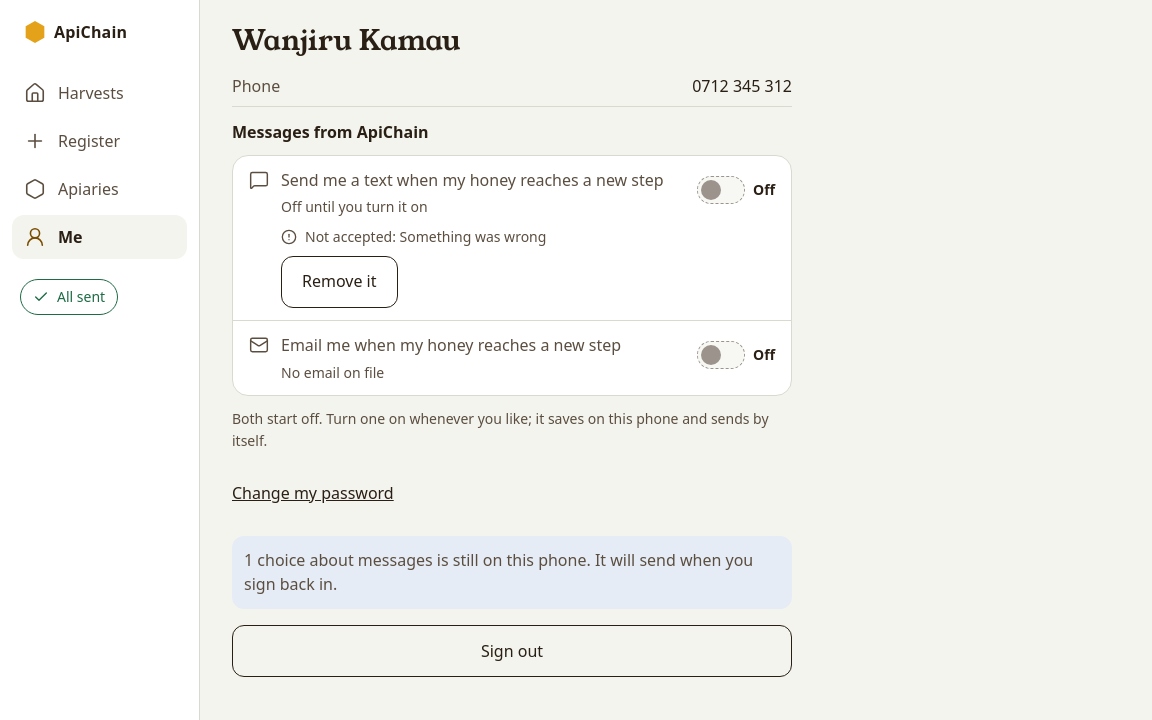
Test: the farmer's own message choices › a refused choice says so and can be removed; its switch waits until then
Check: the text "Not accepted: Something was wrong" is shown, box [281,226,546,248]
Check: the switch named "Send me a text when my honey reaches a new step" in the row of "Off until you turn it on" is disabled, box [697,168,745,212]
Click the button "Remove it": [339, 282] box [281,256,398,308]
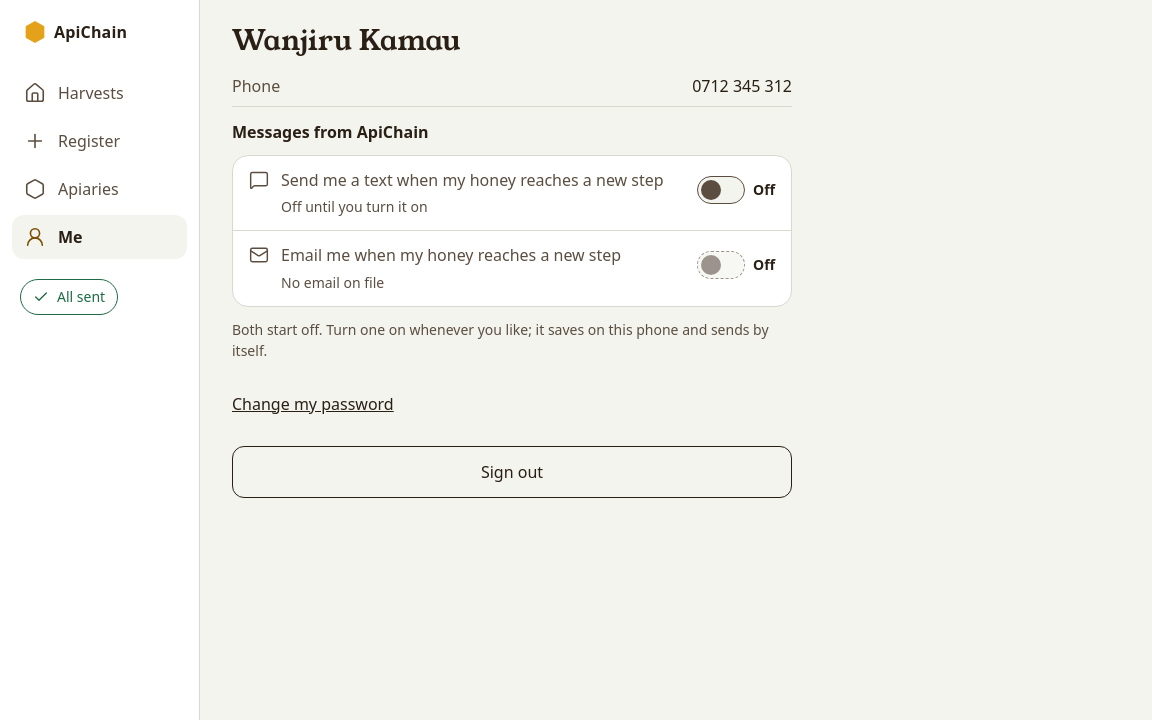
Check: the switch named "Send me a text when my honey reaches a new step" in the row of "Off until you turn it on" is enabled, box [697,168,745,212]
